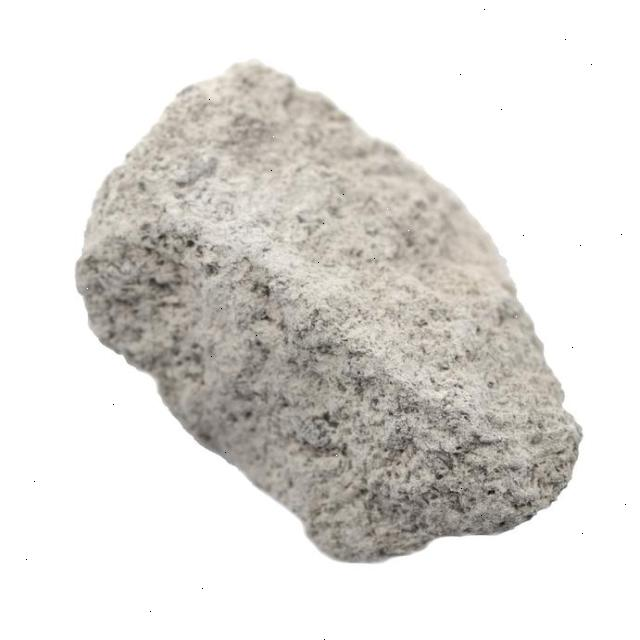Sedimentary: (72, 58, 640, 592)
